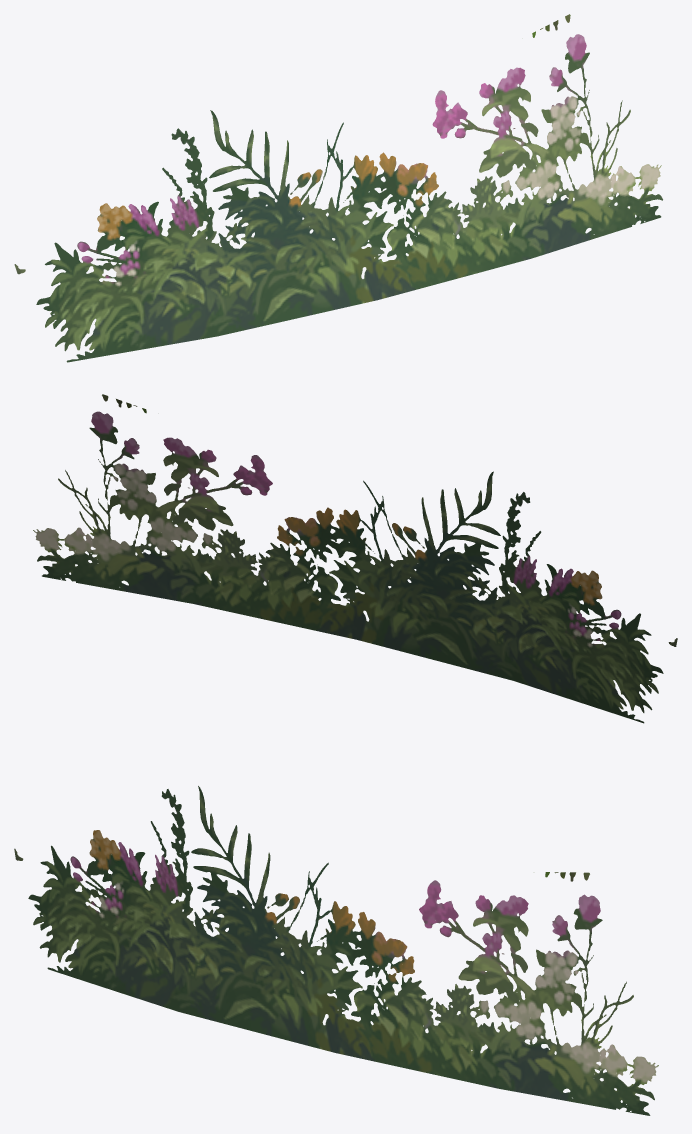
The model's file is Jiubajie_Grass08_fbx.FBX.
The picture shows the model from 3 angles, top to bottom: view 1: azimuth 30°, elevation 25°; view 2: azimuth 150°, elevation 25°; view 3: azimuth 330°, elevation 25°; orthographic projection.
Visible parts, largest first — view 1: Jiubajie_Grass08_fbx; view 2: Jiubajie_Grass08_fbx; view 3: Jiubajie_Grass08_fbx.
Part boxes in pixels (x1,y1,x2,y2): Jiubajie_Grass08_fbx: (14,14,662,362); Jiubajie_Grass08_fbx: (33,394,677,723); Jiubajie_Grass08_fbx: (14,786,658,1115).
Size of the model in its own units: 1.6 by 0.5604 by 0.1254.
